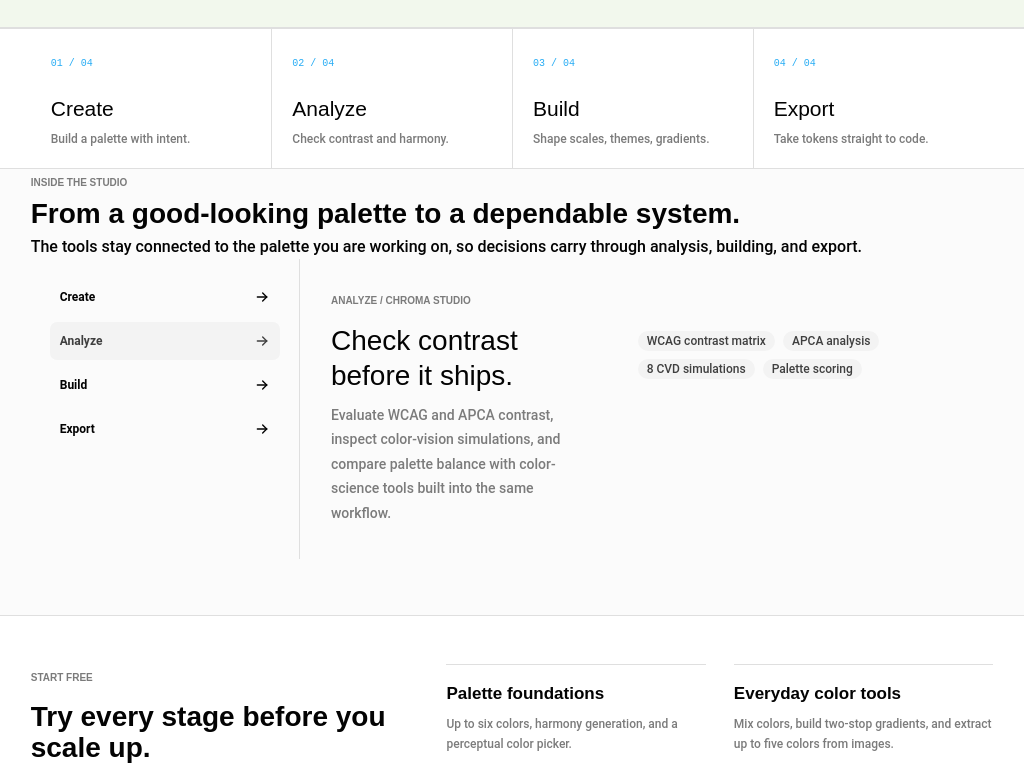
Scenario: marketing pricing › switches feature explorer content by workflow stage
(page scrolled)
Expected: the heading "Check contrast before it ships." is shown, [331,324,518,390]
Click the button "Build" at (165, 385), box [49,365,281,405]
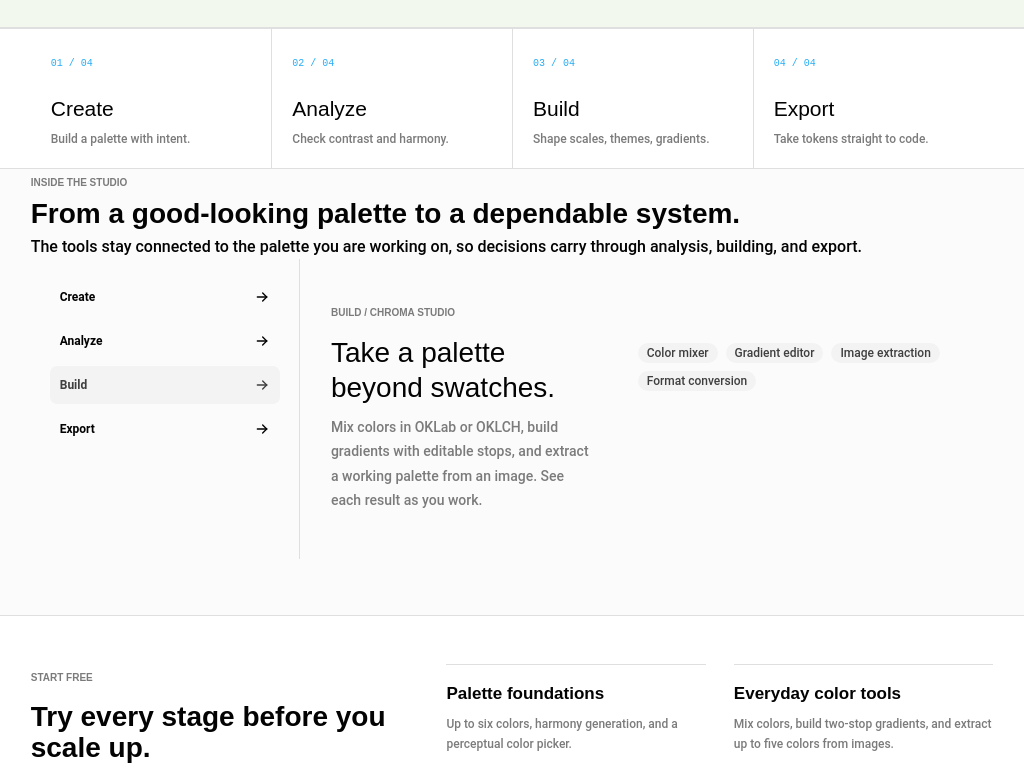
Result: the heading "Take a palette beyond swatches." is shown at [331,337,555,403]
